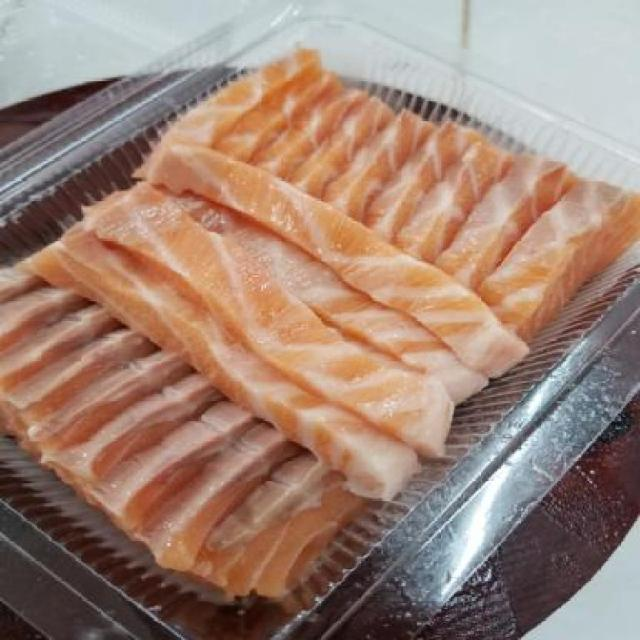salmon: (3, 46, 639, 609)
